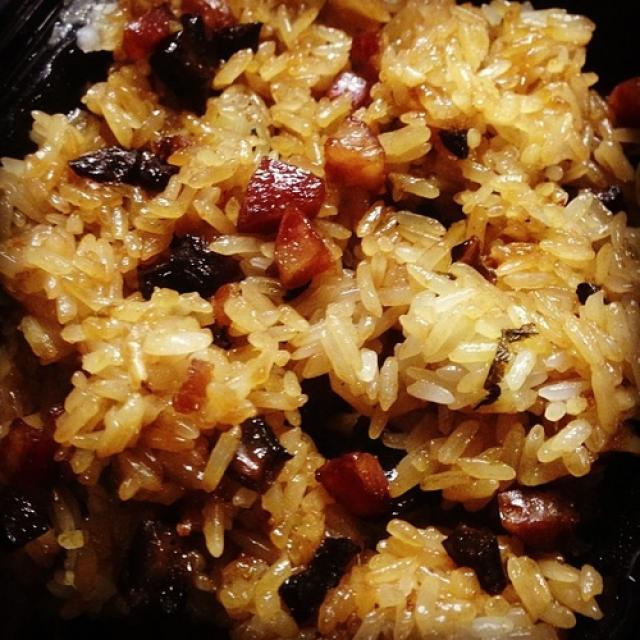米饭主食: (19, 20, 626, 621)
